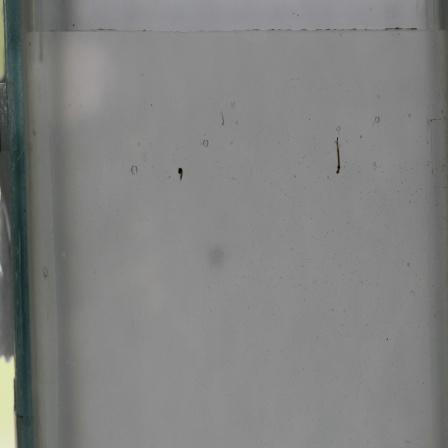Jentik-Nyamuk: (332, 133, 344, 178), (172, 163, 187, 184)
